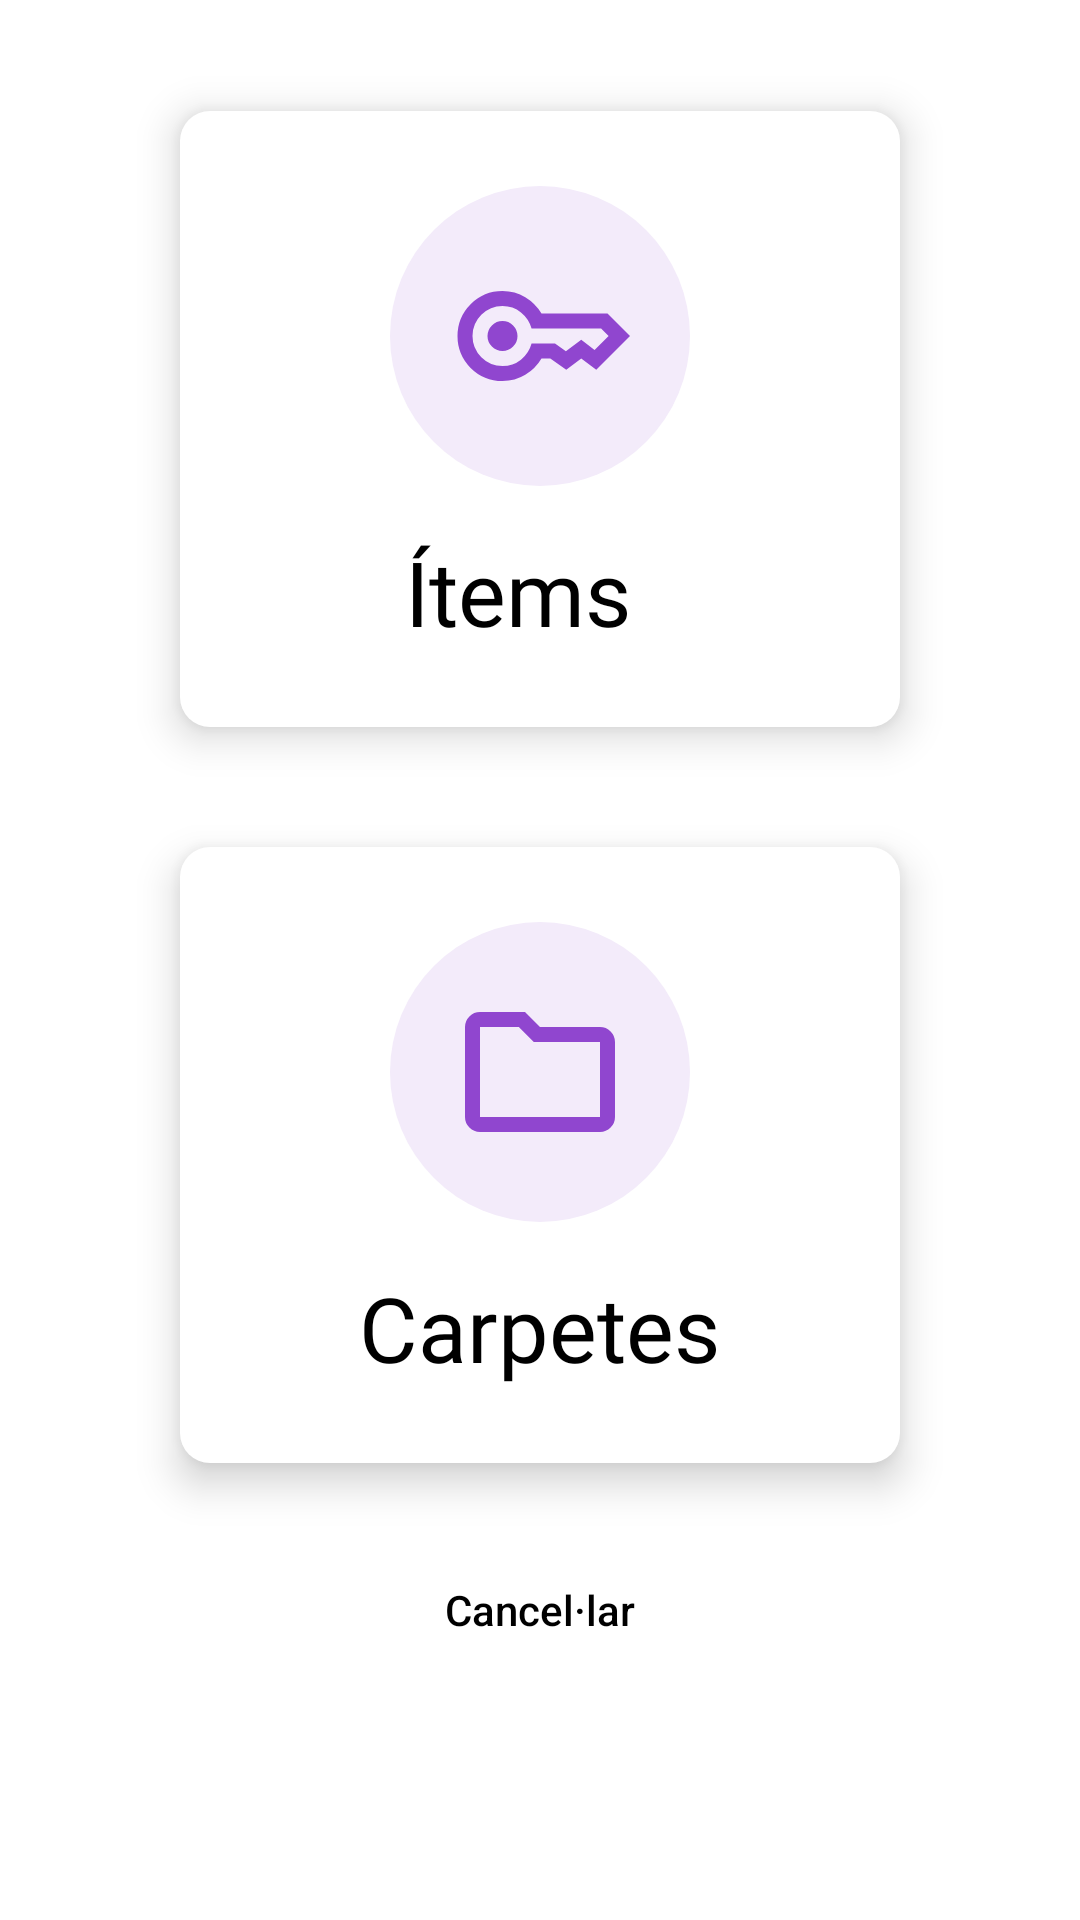

Named icons in this screenshot (1080*1920) and their bounding boxes, (x1, y1, x2, y2):
carpeta violeta: (390, 922, 690, 1222)
key violeta: (390, 186, 690, 486)
